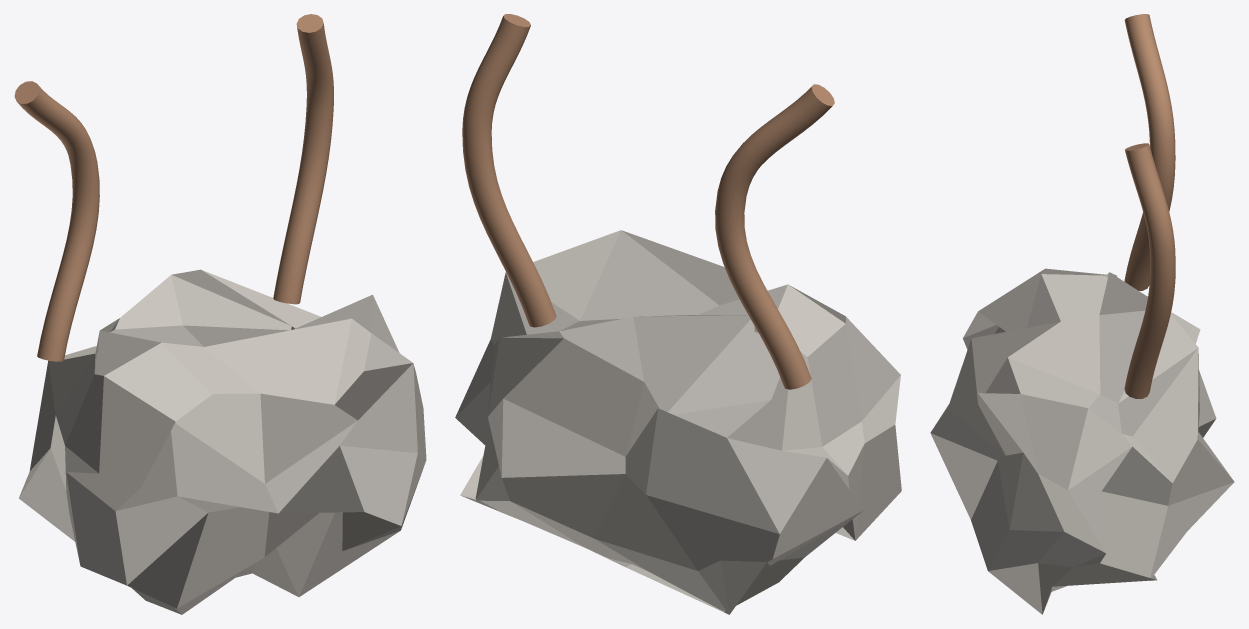
Rendered from Escombro.fbx.
3 renders of one model, left to right at view 1: azimuth 30°, elevation 25°; view 2: azimuth 150°, elevation 25°; view 3: azimuth 270°, elevation 25°, orthographic. The views are drawn at different scales.
Parts seen in each view (by area): view 1: Escombro; view 2: Escombro; view 3: Escombro.
Boxes of the visible parts, x1,y1,x2,y2 form: Escombro: (14, 14, 426, 614); Escombro: (455, 14, 901, 614); Escombro: (930, 14, 1234, 614).
Bounding box in the file's own units: 0.8063 × 1.05 × 0.596.
